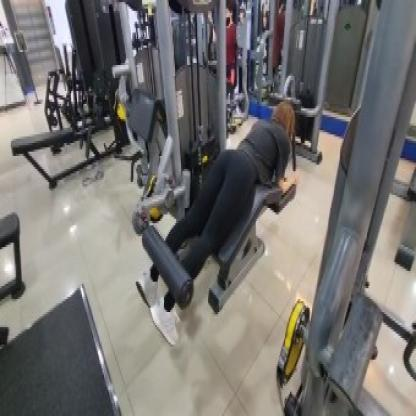reg curl machine: (130, 0, 302, 351)
